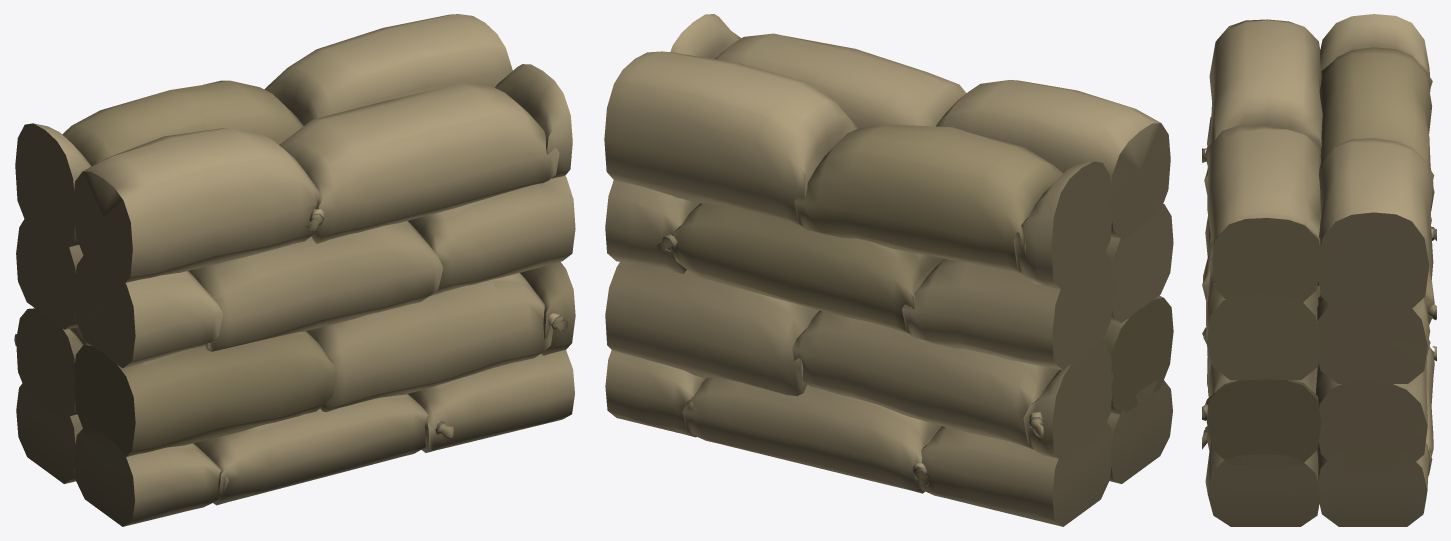
The model's file is sandbags_b.glb.
3 renders of one model, left to right at view 1: azimuth 30°, elevation 25°; view 2: azimuth 150°, elevation 25°; view 3: azimuth 270°, elevation 25°, orthographic. The views are drawn at different scales.
Parts seen in each view (by area): view 1: sandbags_b; view 2: sandbags_b; view 3: sandbags_b.
Part boxes in pixels (x1,y1,x2,y2): sandbags_b: [14, 14, 575, 526]; sandbags_b: [604, 14, 1173, 526]; sandbags_b: [1202, 14, 1436, 526].
Size of the model in its own units: 1.2 by 0.9 by 0.6.
